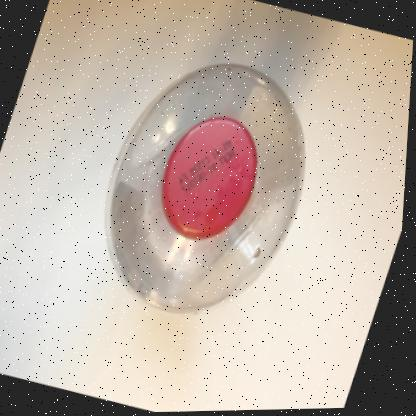Plastic: (107, 63, 306, 311)
